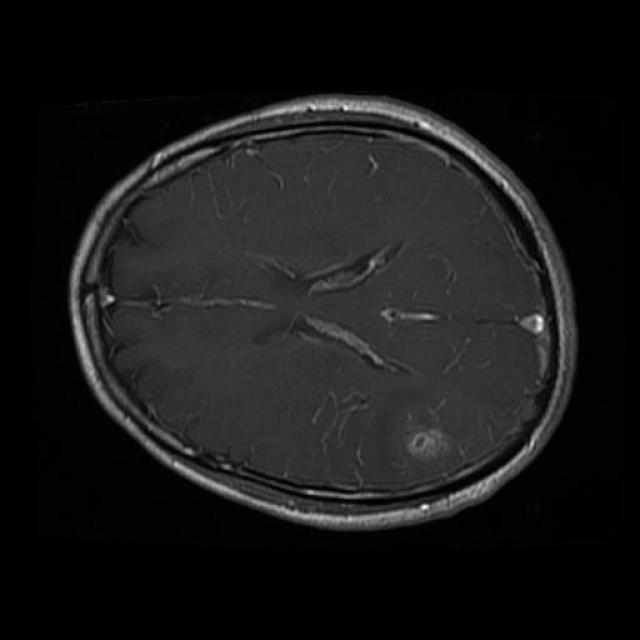Glioma: (360, 400, 474, 491)
